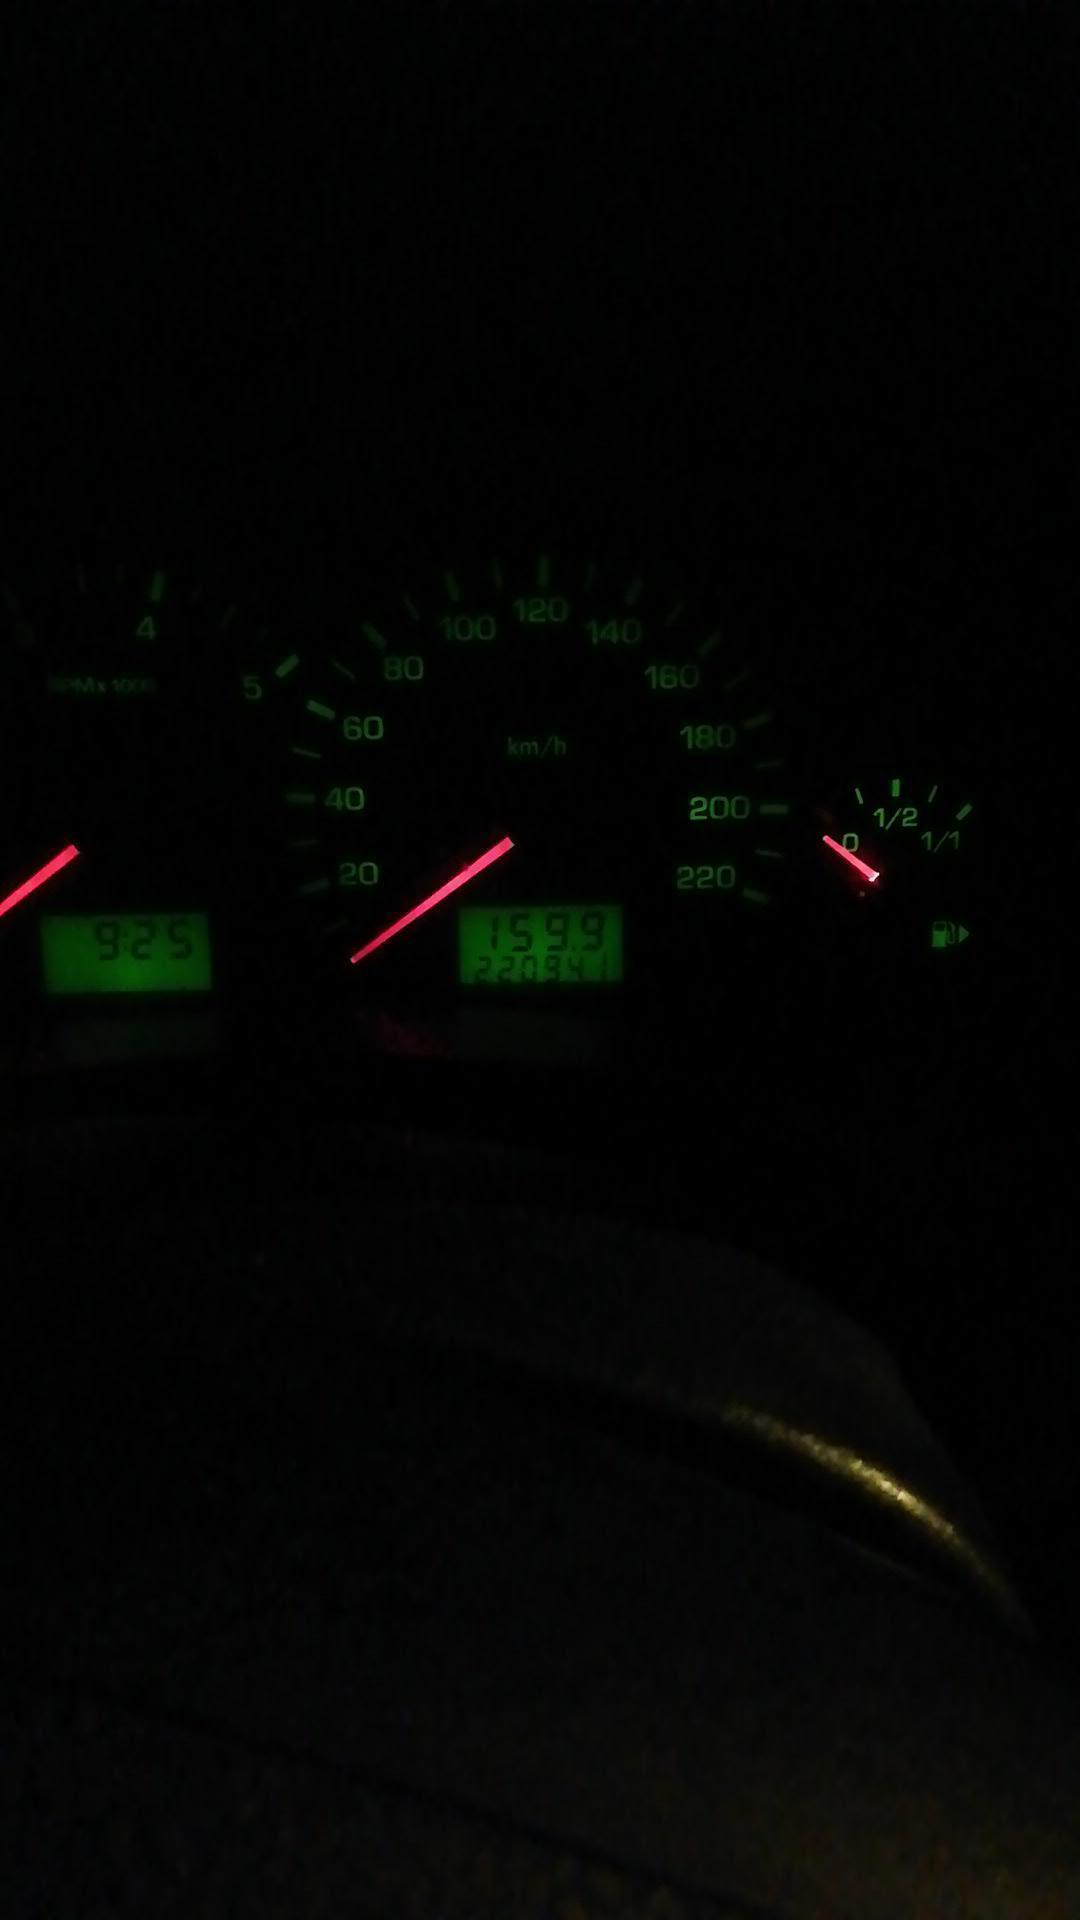,: (568, 944, 576, 952)
0: (520, 953, 538, 982)
1: (489, 915, 498, 949), (599, 953, 608, 982)
2: (495, 953, 514, 984), (473, 955, 492, 982)
4: (567, 955, 584, 980)
5: (509, 911, 531, 952)
9: (579, 909, 605, 951), (545, 911, 568, 951), (543, 953, 560, 982)
odometer: (454, 899, 630, 992)
